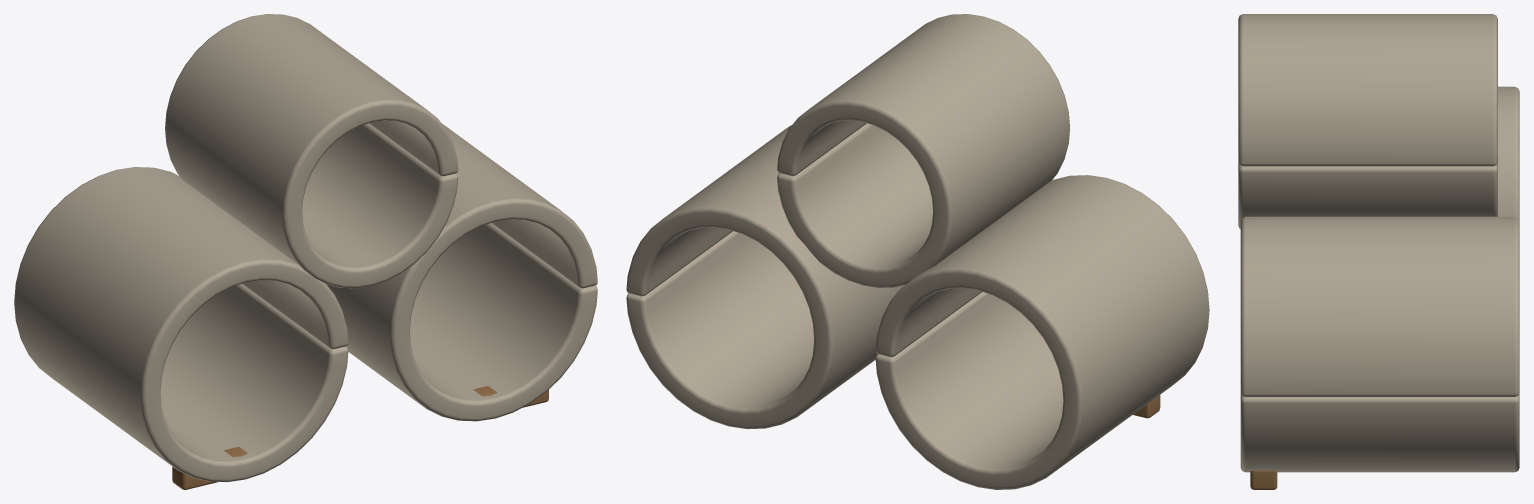
File: pipes.glb
3 views of the same model, side by side, from view 1: azimuth 30°, elevation 25°; view 2: azimuth 150°, elevation 25°; view 3: azimuth 270°, elevation 25° (orthographic). The views are drawn at different scales.
Visible parts, largest first — view 1: Concrete drain, Stacked drain, Concrete drain.001, Timber wedge; view 2: Concrete drain, Stacked drain, Concrete drain.001; view 3: Concrete drain.001, Stacked drain, Concrete drain, Timber wedge.001.
Part boxes in pixels (x1,y1,x2,y2): Concrete drain: (14, 167, 348, 482); Stacked drain: (165, 14, 458, 288); Concrete drain.001: (327, 123, 597, 421); Timber wedge: (172, 446, 247, 489); Concrete drain: (875, 175, 1209, 489); Stacked drain: (777, 14, 1069, 287); Concrete drain.001: (626, 125, 904, 429); Concrete drain.001: (1240, 216, 1519, 472); Stacked drain: (1238, 14, 1497, 229); Concrete drain: (1498, 86, 1519, 220); Timber wedge.001: (1250, 470, 1277, 489).
Bounding box in the file's own units: 3.74 × 2.72 × 1.87.
